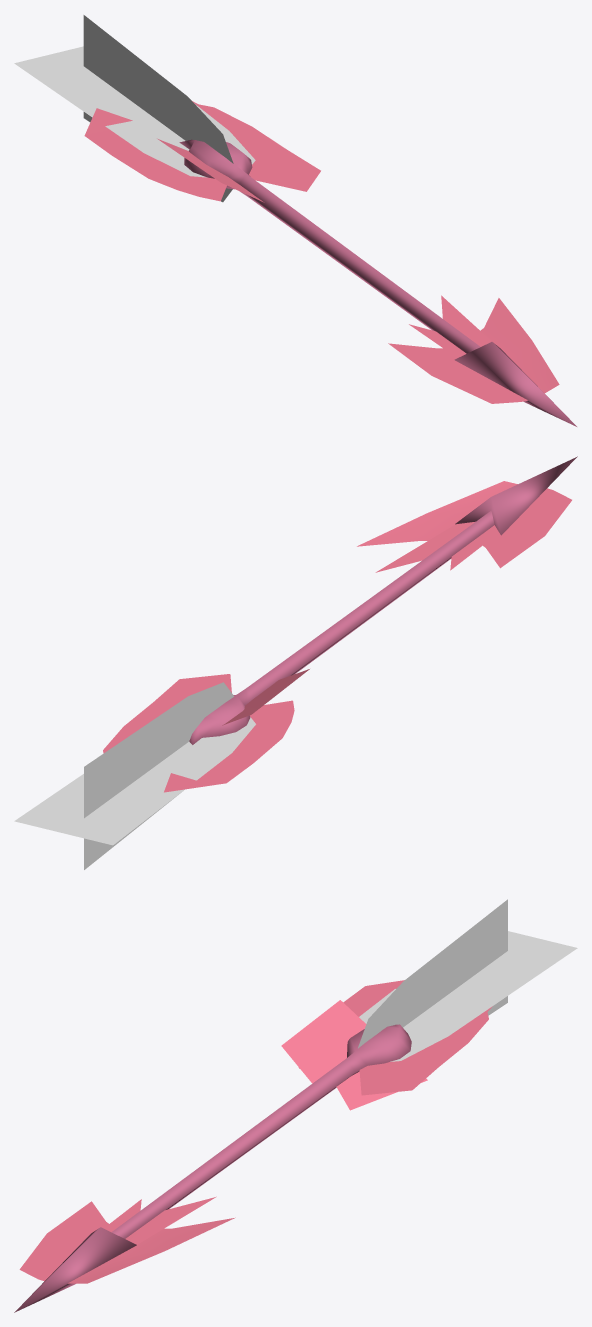
File: 2ssz_sss_Jian001.FBX
3 views of the same model, one above another, from view 1: azimuth 30°, elevation 25°; view 2: azimuth 150°, elevation 25°; view 3: azimuth 330°, elevation 25° (orthographic).
Visible parts, largest first — view 1: 2ssz_2sss_fire02_M, Plane001, 2ssz_2sss_w01_M; view 2: Plane001, 2ssz_2sss_fire02_M, 2ssz_2sss_w01_M; view 3: 2ssz_2sss_fire02_M, Plane001, 2ssz_2sss_w01_M.
Boxes of the visible parts, box(x1,y1,x2,y2) form: 2ssz_2sss_fire02_M: box(84, 101, 559, 403); Plane001: box(14, 15, 255, 202); 2ssz_2sss_w01_M: box(179, 139, 576, 426); Plane001: box(14, 682, 255, 869); 2ssz_2sss_fire02_M: box(103, 481, 571, 792); 2ssz_2sss_w01_M: box(189, 456, 577, 744); 2ssz_2sss_fire02_M: box(19, 980, 492, 1283); Plane001: box(358, 899, 577, 1061); 2ssz_2sss_w01_M: box(14, 1024, 411, 1312).
Bounding box in the file's own units: 89.1 × 61.77 × 556.
